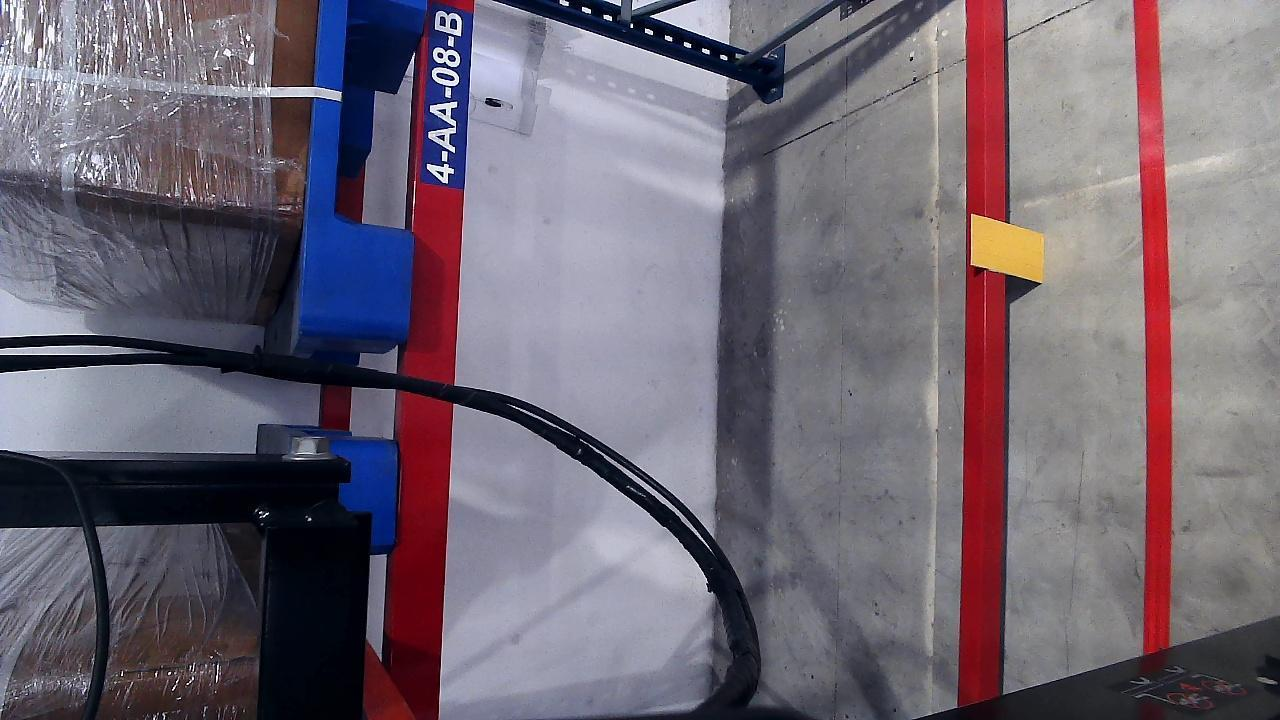red_line: (1129, 0, 1174, 596)
